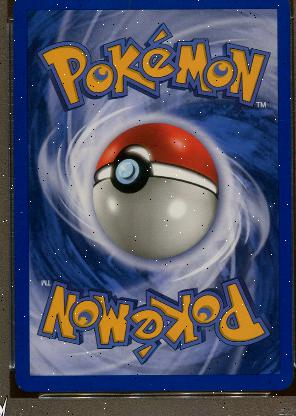Card: (11, 0, 293, 392)
Corner Wear: (14, 0, 39, 2), (16, 383, 21, 389), (281, 0, 287, 1)
Scratch: (236, 104, 242, 115), (274, 118, 287, 122), (19, 209, 23, 213)
